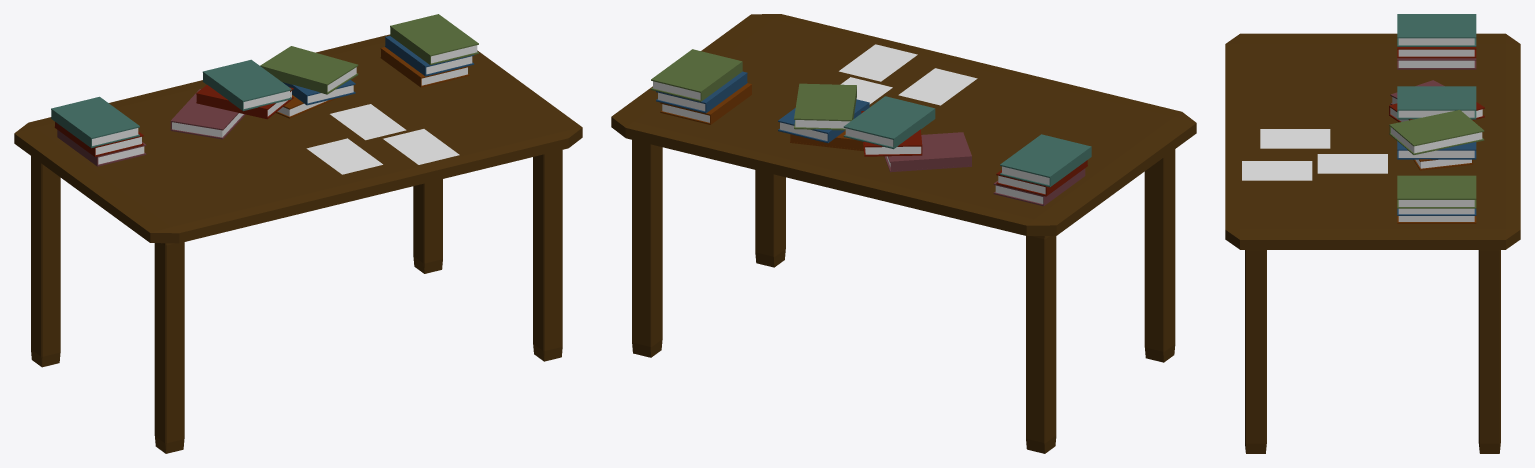
File: mesa.fbx
3 views of the same model, side by side, from view 1: azimuth 30°, elevation 25°; view 2: azimuth 150°, elevation 25°; view 3: azimuth 270°, elevation 25° (orthographic). The views are drawn at different scales.
Visible parts, largest first — view 1: Base, Pata4, Pata4.001, Pata4.003, Pata4.002, Libro.028, Libro.007, Libro.010, Libro.025, Papel.001, Papel.002, Papel (+1 smaller); view 2: Base, Pata4.003, Pata4.002, Pata4, Pata4.001, Libro.007, Libro.028, Libro.010, Libro.025, Libro.034, Papel, Papel.002 (+2 smaller); view 3: Base, Pata4.002, Pata4.001, Libro.025, Libro.010, Libro.007, Libro.028, Papel.001, Papel.002, Papel, Libro.024, Libro (+11 smaller).
Part boxes in pixels (box(x1,y1,x2,y2)): Base: box(14, 34, 582, 243); Pata4: box(154, 242, 184, 453); Pata4.001: box(533, 150, 562, 361); Pata4.003: box(31, 156, 60, 367); Pata4.002: box(413, 179, 442, 273); Libro.028: box(202, 59, 291, 111); Libro.007: box(51, 96, 139, 148); Libro.010: box(390, 14, 478, 64); Libro.025: box(260, 46, 358, 94); Papel.001: box(330, 104, 406, 140); Papel.002: box(383, 129, 459, 164); Papel: box(306, 138, 382, 174); Base: box(611, 14, 1196, 235); Pata4.003: box(1026, 236, 1056, 453); Pata4.002: box(632, 140, 662, 357); Pata4: box(1144, 149, 1175, 362); Pata4.001: box(755, 170, 785, 267); Libro.007: box(1000, 134, 1091, 187); Libro.028: box(843, 96, 935, 149); Libro.010: box(651, 49, 742, 101); Libro.025: box(794, 83, 856, 130); Libro.034: box(884, 132, 971, 172); Papel: box(898, 68, 977, 105); Papel.002: box(839, 44, 917, 81); Base: box(1225, 33, 1520, 249); Pata4.002: box(1478, 250, 1500, 453); Pata4.001: box(1245, 250, 1266, 453); Libro.025: box(1389, 110, 1484, 154); Libro.010: box(1397, 175, 1476, 208); Libro.007: box(1397, 14, 1476, 46); Libro.028: box(1397, 86, 1476, 119); Papel.001: box(1317, 154, 1387, 173); Papel.002: box(1242, 161, 1312, 180); Papel: box(1260, 129, 1330, 148); Libro.024: box(1391, 127, 1482, 153); Libro: box(1398, 60, 1474, 67).
Bounding box in the file's own units: 663 × 379 × 401.
